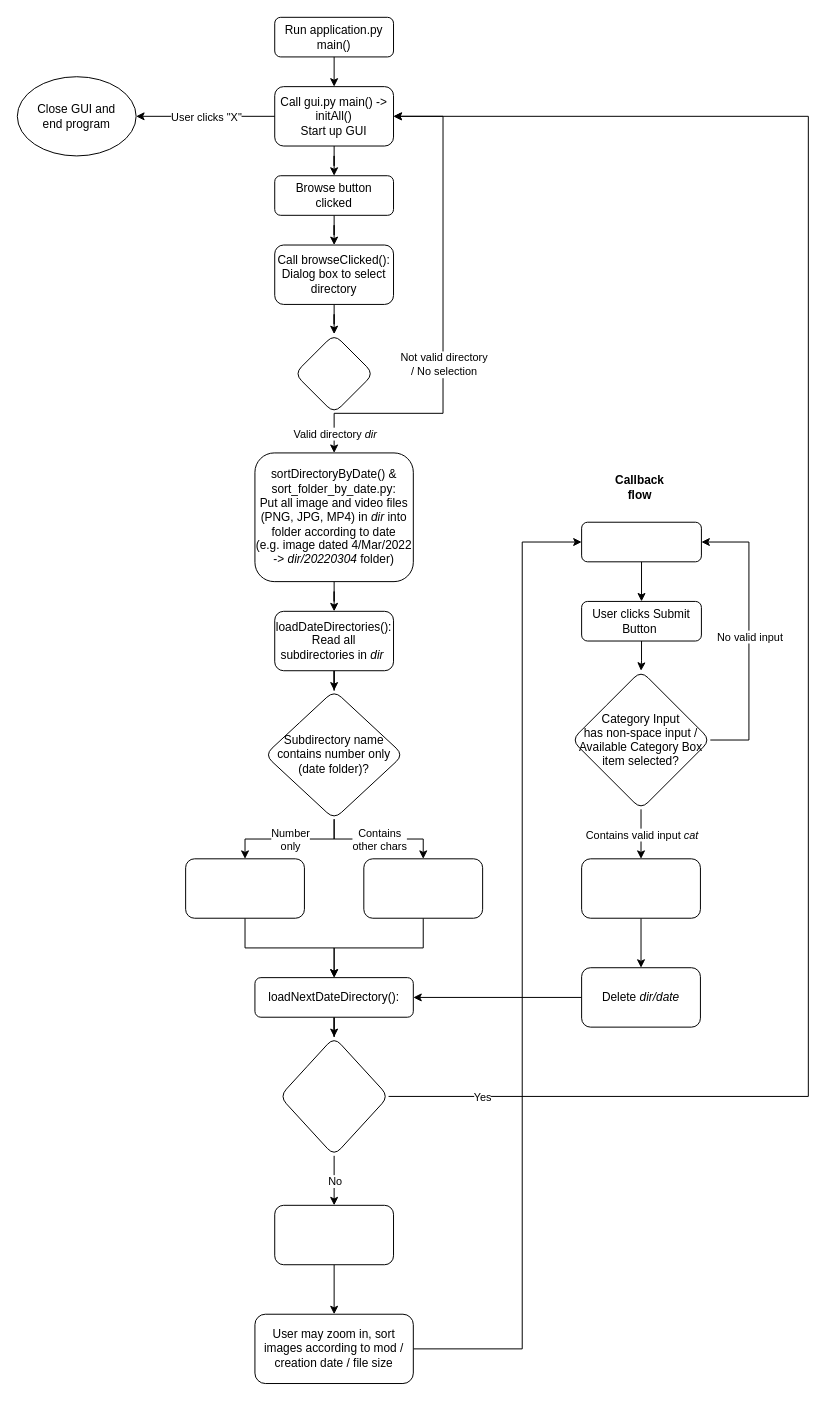
The diagram is 834 pixels wide and 1401 high, and some of its shapes have lost their labels. The box of each missing label's shape, as (x1, y1, x2, y2) in pixels:
Add into Available Category Box (categories to choose from): (363, 858, 483, 918)
Add into self.dnames list (date directories to categorise): (185, 858, 304, 918)
Finished processing all date directories?: (279, 1036, 389, 1156)
Load all images and video thumbnails (1st frame) of the next date directory: (274, 1204, 394, 1265)
Move all files in dir/date folder to dir/cat , create dir/cat if not present: (581, 858, 700, 918)
User select category / input new category: (581, 521, 701, 562)
Valid directory?: (294, 333, 374, 413)
